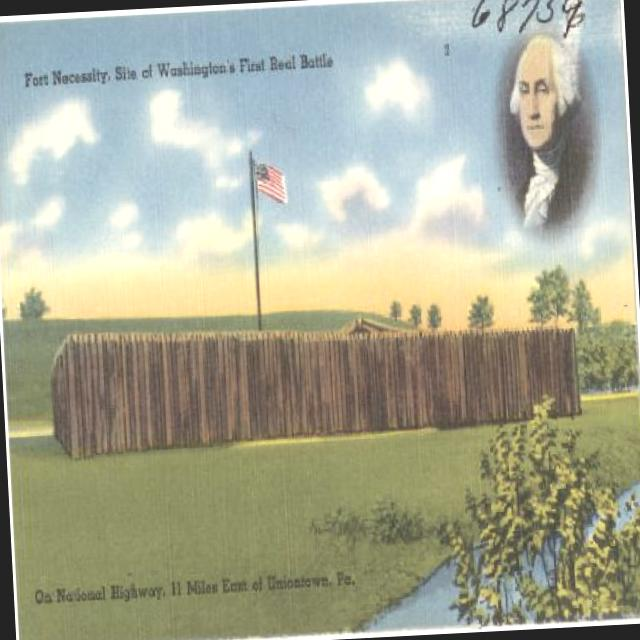Person: (500, 30, 590, 261)
